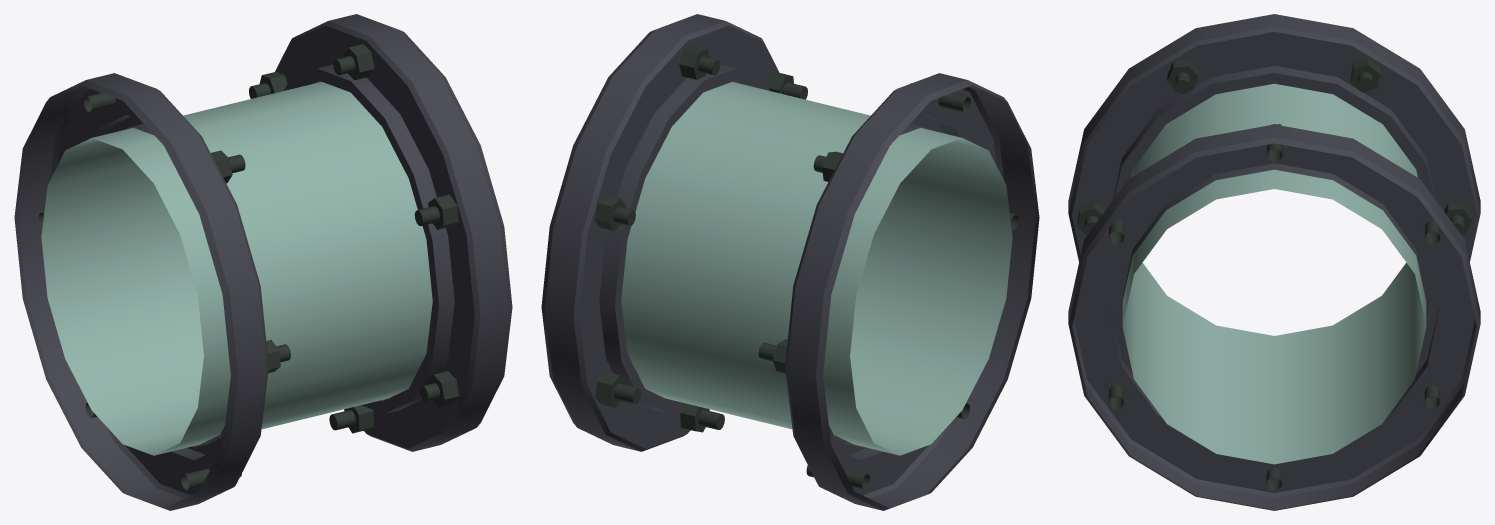
Rendered from PipeComplexLarge_A2_Short_1_Alt.fbx.
3 renders of one model, left to right at view 1: azimuth 30°, elevation 25°; view 2: azimuth 150°, elevation 25°; view 3: azimuth 270°, elevation 25°, orthographic. The views are drawn at different scales.
Parts seen in each view (by area): view 1: PipeComplexLarge_A2_Short_1_Alt.001; view 2: PipeComplexLarge_A2_Short_1_Alt.001; view 3: PipeComplexLarge_A2_Short_1_Alt.001.
Boxes of the visible parts, x1,y1,x2,y2 form: PipeComplexLarge_A2_Short_1_Alt.001: (14,14,512,510); PipeComplexLarge_A2_Short_1_Alt.001: (541,14,1039,510); PipeComplexLarge_A2_Short_1_Alt.001: (1068,14,1480,510).
Size of the model in its own units: 0.2 by 0.2712 by 0.2712.
